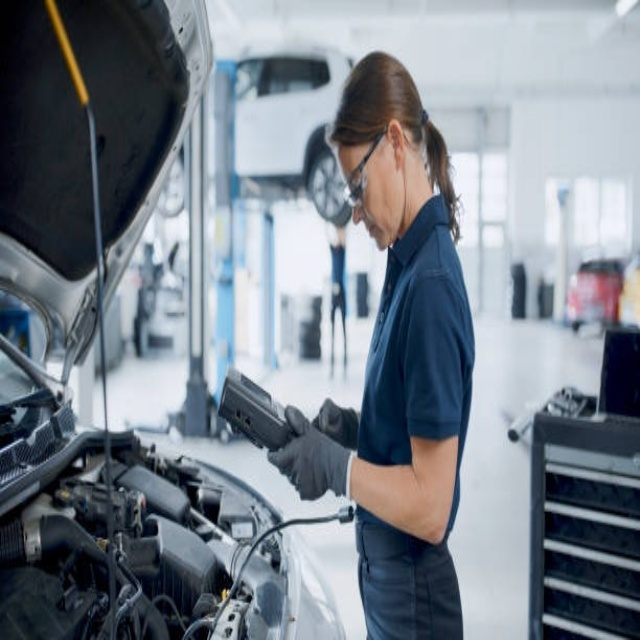Gafas: (342, 128, 388, 208)
Guantes: (275, 381, 357, 513)
Sin_mascara: (355, 212, 389, 255)
